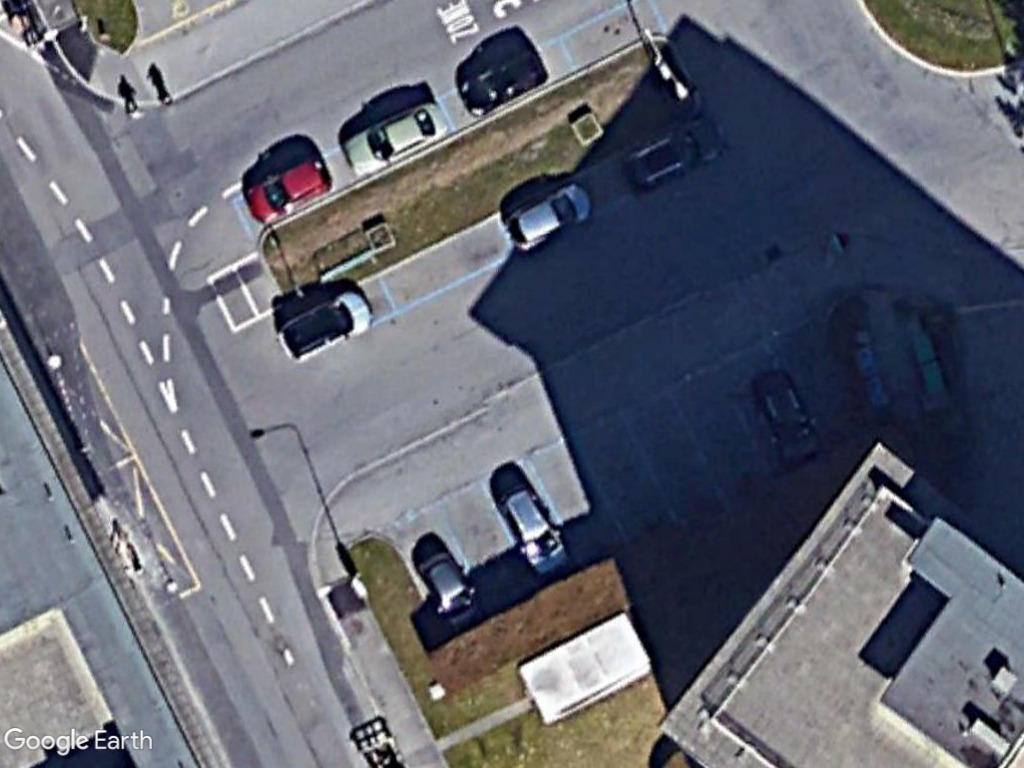car: (344, 99, 448, 179), (275, 289, 375, 365), (491, 484, 569, 579), (504, 179, 595, 254), (246, 154, 332, 224), (416, 550, 482, 628)
